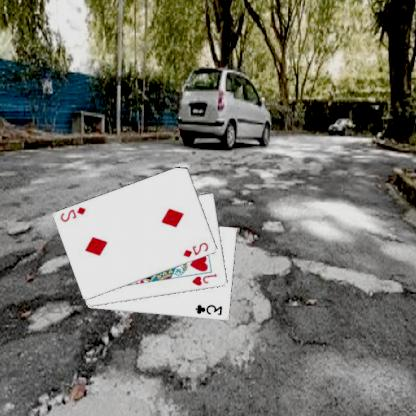2D: (60, 204, 89, 223), (182, 240, 212, 258)
3C: (194, 302, 226, 316)
JH: (191, 271, 220, 287)
